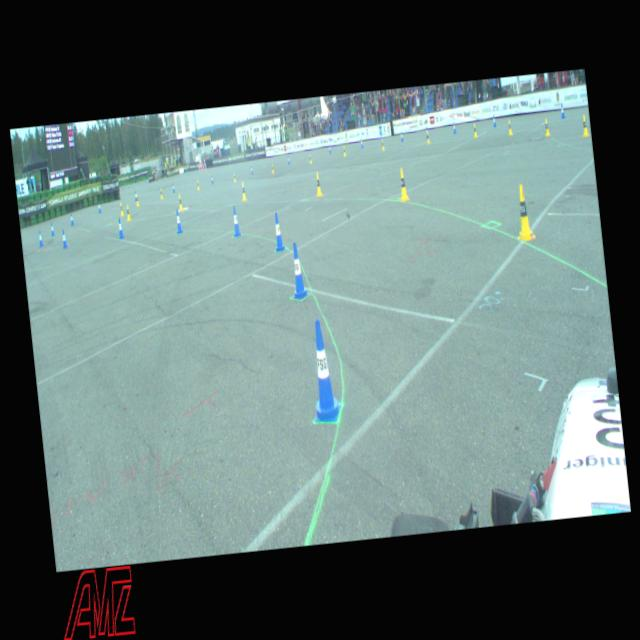blue_cone: (304, 317, 341, 422), (287, 240, 309, 300), (272, 212, 286, 252), (230, 205, 241, 237), (174, 208, 183, 233), (117, 218, 124, 238), (61, 228, 68, 248), (38, 230, 44, 247), (560, 102, 565, 118), (50, 222, 54, 236), (70, 212, 74, 225), (492, 114, 496, 127), (425, 126, 429, 138), (452, 122, 456, 134), (400, 130, 403, 142), (134, 190, 137, 201), (98, 202, 101, 212), (172, 183, 175, 192), (360, 138, 362, 148)
yellow_cone: (513, 183, 535, 241), (396, 168, 408, 200), (314, 172, 322, 196), (581, 114, 589, 136), (240, 181, 247, 201), (178, 193, 184, 211), (544, 118, 550, 136), (125, 204, 131, 220), (507, 119, 513, 135), (472, 124, 478, 138), (119, 202, 124, 216), (135, 193, 140, 206), (426, 131, 430, 144), (342, 145, 346, 156), (380, 139, 384, 150), (308, 153, 312, 163), (160, 187, 163, 198), (196, 180, 199, 190), (232, 172, 235, 181), (271, 164, 274, 172)
